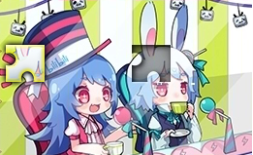gap: (132, 45, 170, 82)
